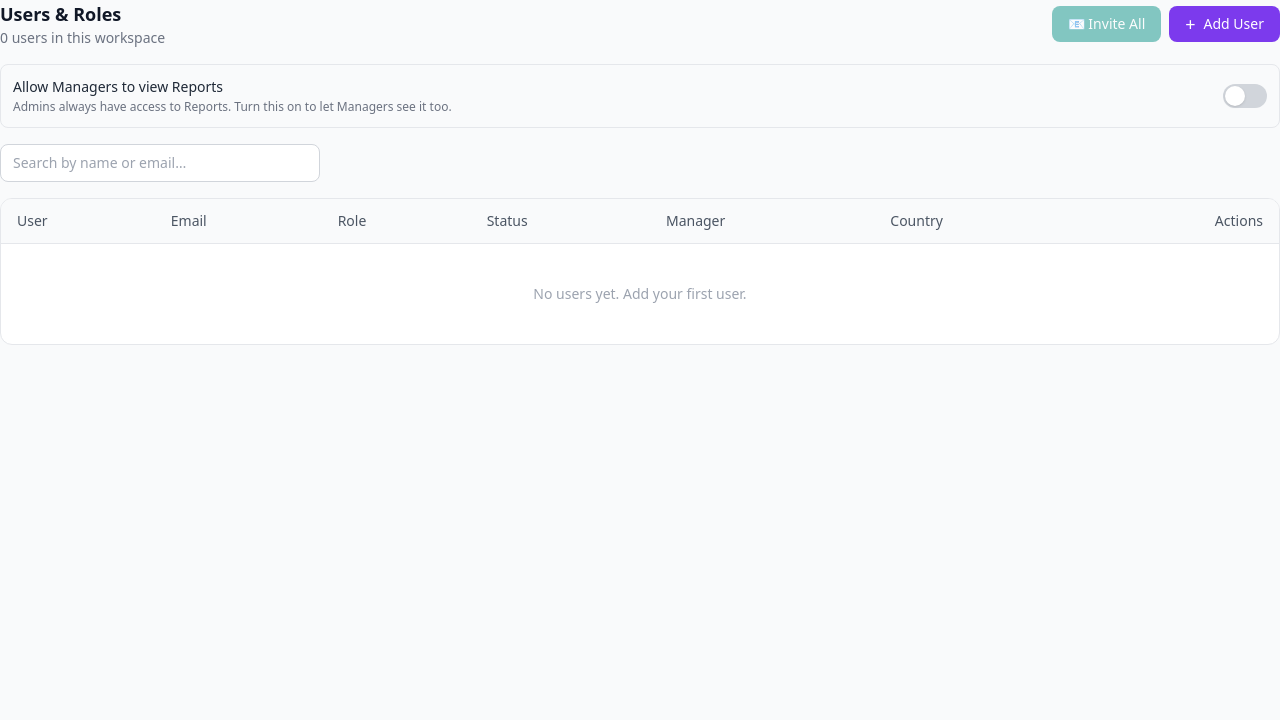
UsersTab — Add User › does not attempt to send an invite if user creation itself fails
Click the button "+ Add User" at (1225, 24), box [1169,6,1279,42]
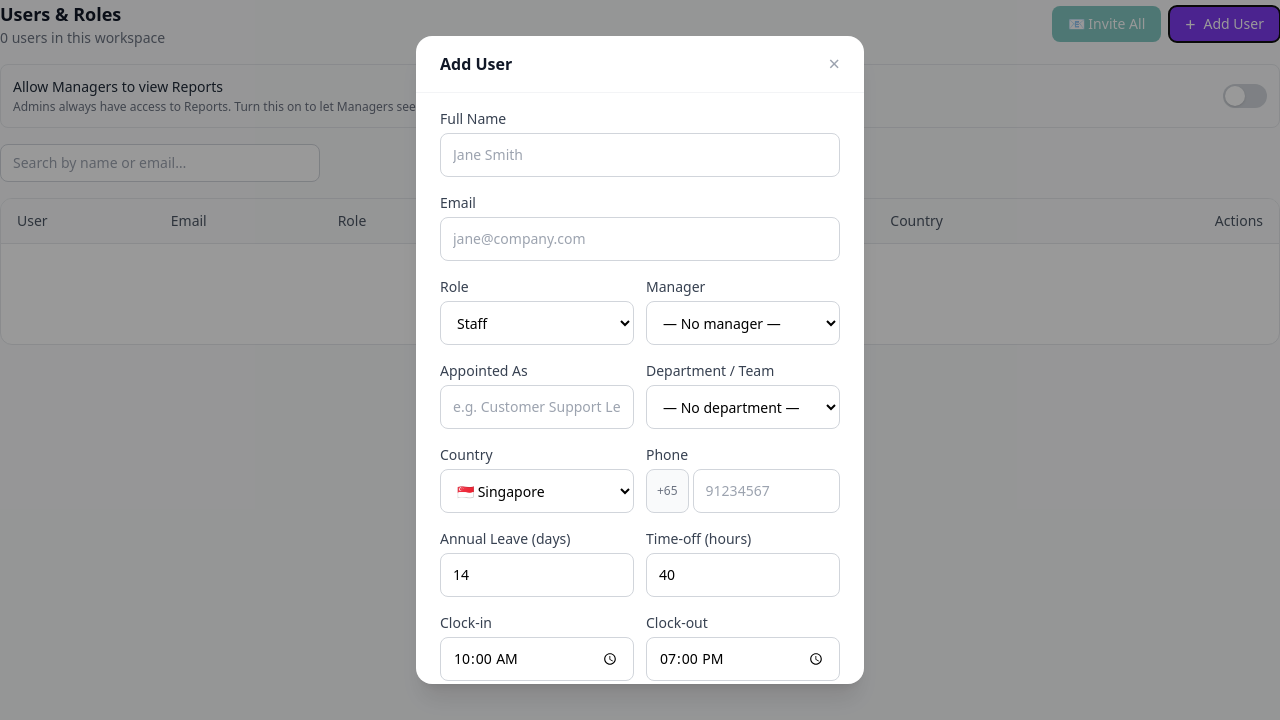
Type "Corporate Account" into the field with placeholder "Jane Smith" at (640, 155), box [440,133,840,177]
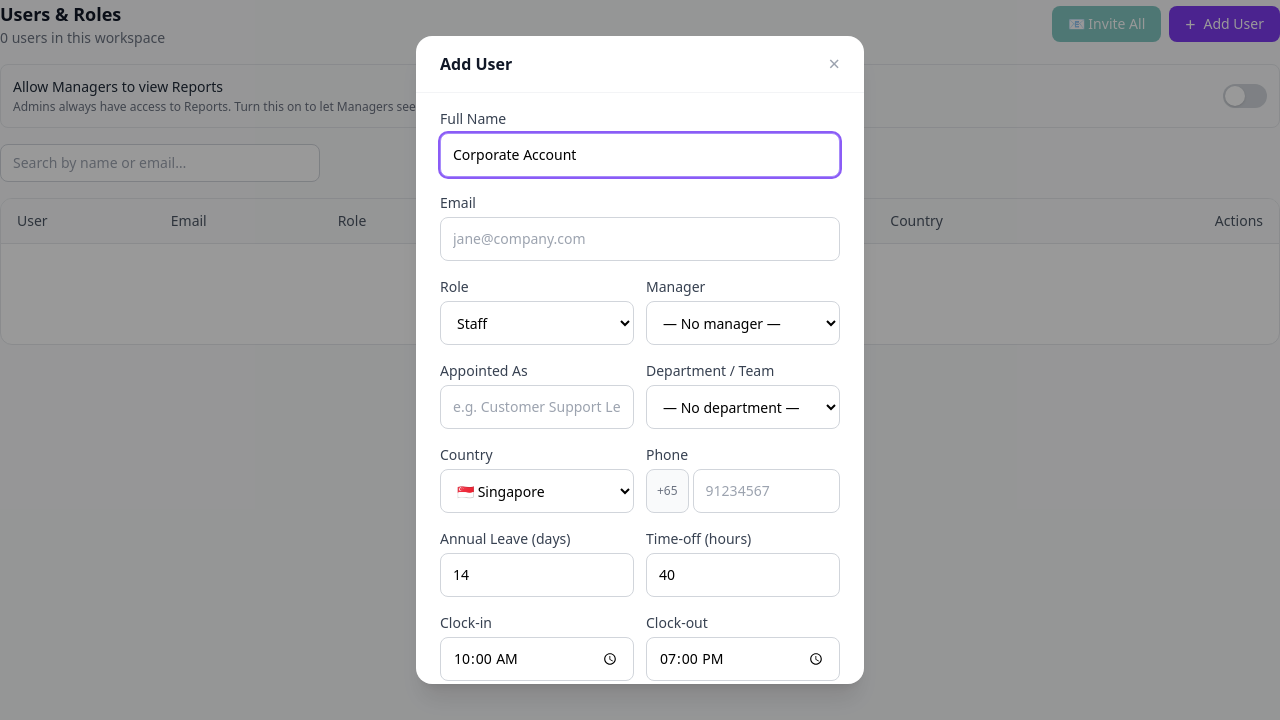
Type "corporate@amwelltechnologies.com" into the field with placeholder "jane@company.com" at (640, 239), box [440,217,840,261]
(page scrolled)
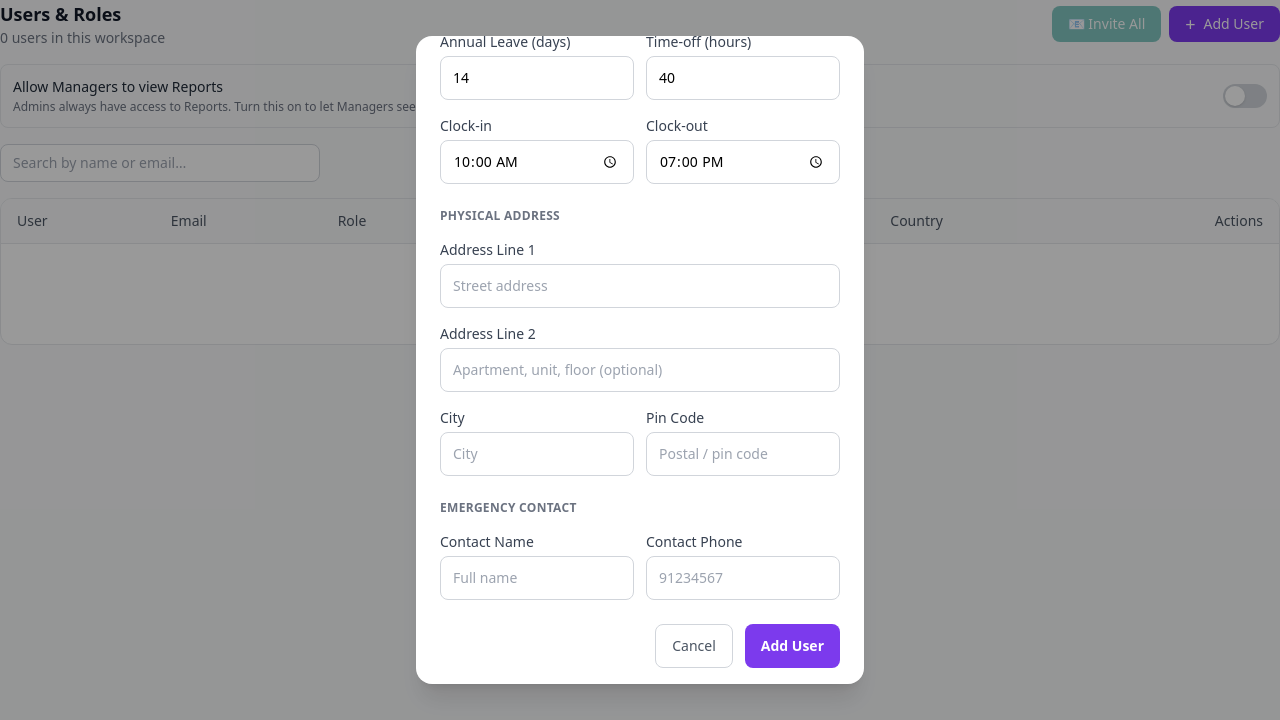
Click the button "Add User" at (792, 646), box [745,624,840,668]
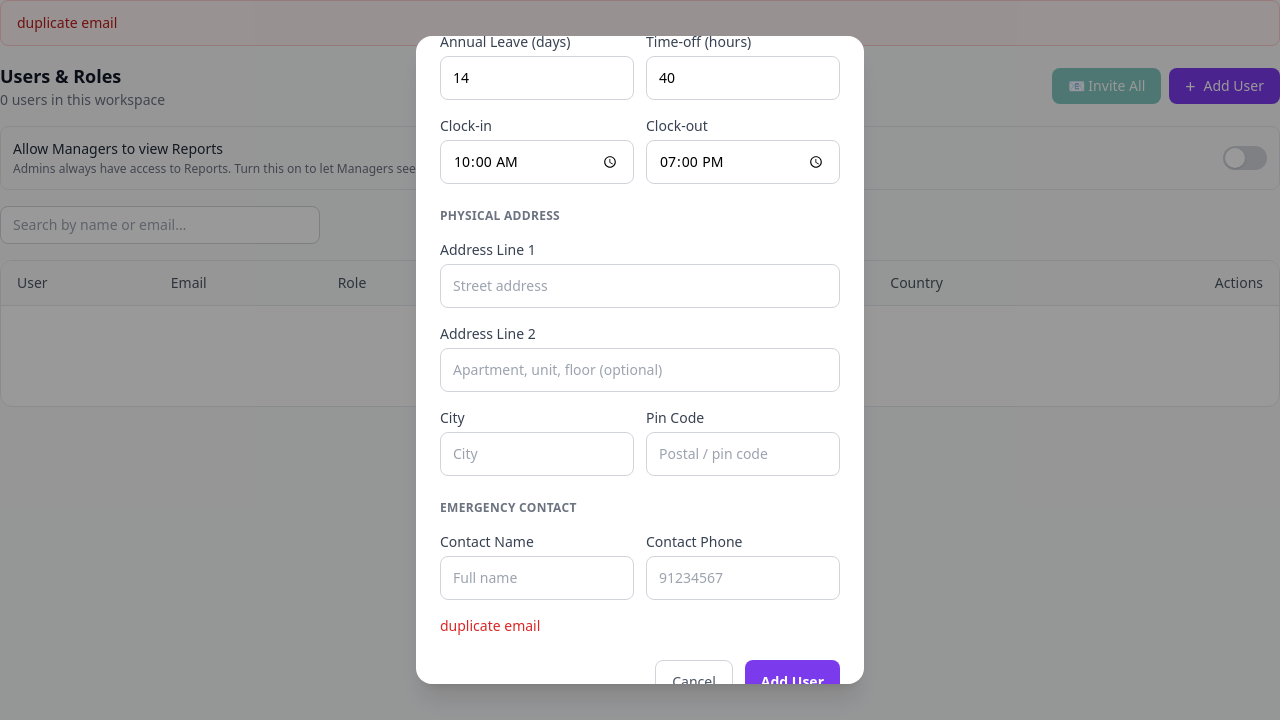
Now the 1st text "duplicate email" is shown, box [0,0,1279,46]
